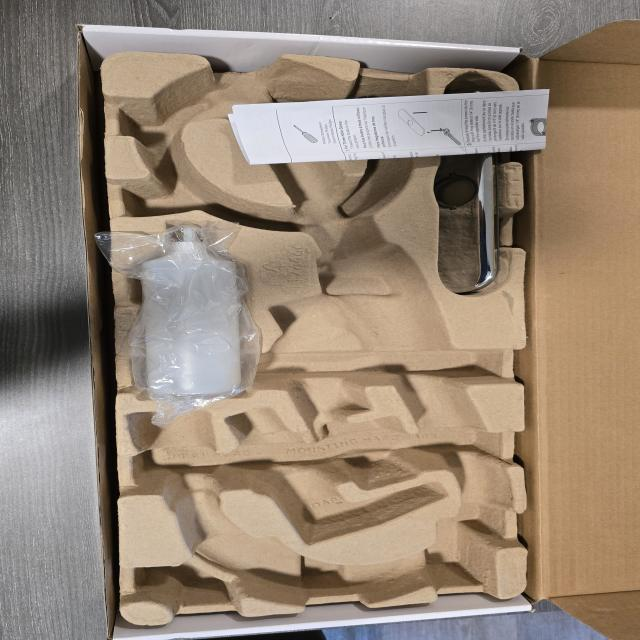1m: (127, 56, 516, 609)
2m: (221, 408, 450, 543)
3: (138, 224, 245, 398)
4o: (434, 87, 502, 293)
5m: (348, 89, 424, 145)
6m: (114, 83, 214, 149)
7m: (121, 147, 256, 225)
8: (226, 89, 551, 166)
